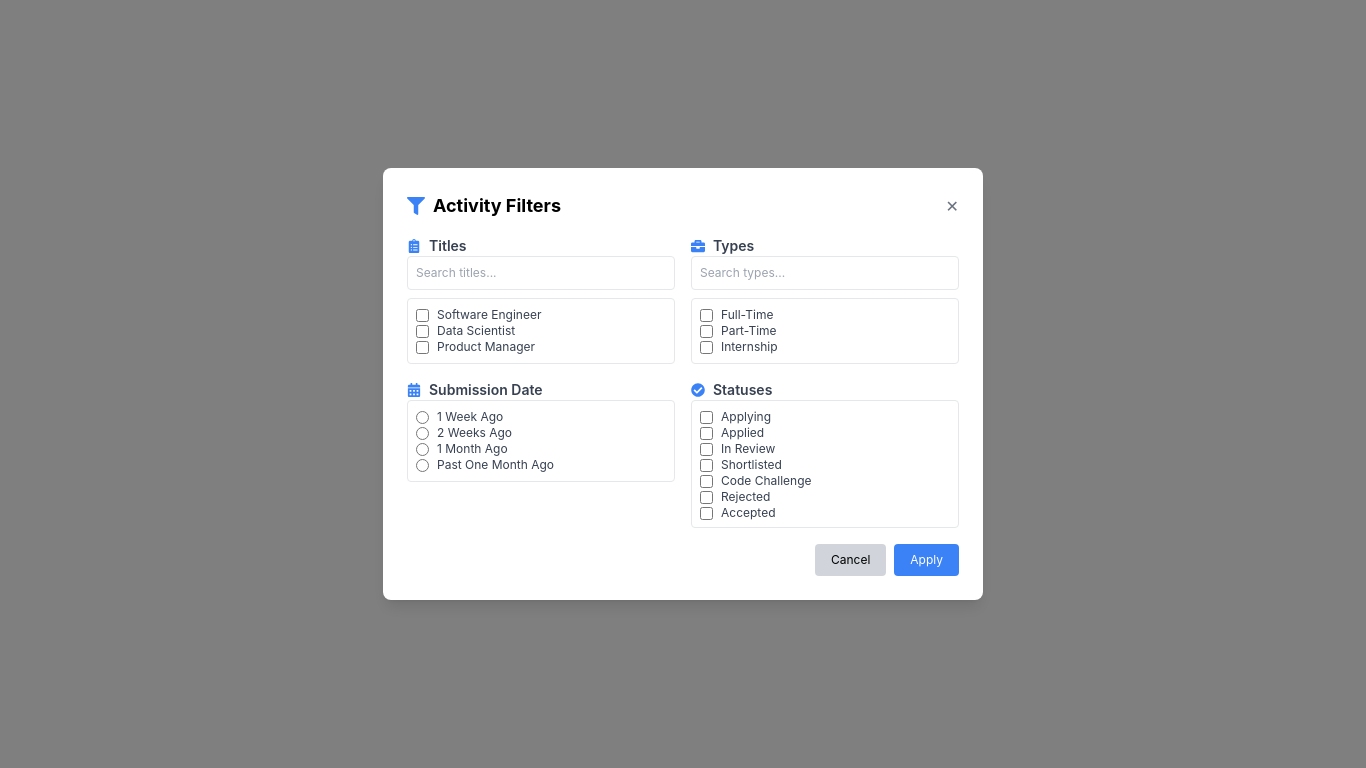
ActivityFilter Component › handles case-insensitive title search
This screenshot has width=1366, height=768.
Expected: the text "Software Engineer" is shown, [416,307,542,322]
Type "SOFTWARE" into the field with placeholder "Search titles..." at coordinates (541, 273), box [407,256,675,290]
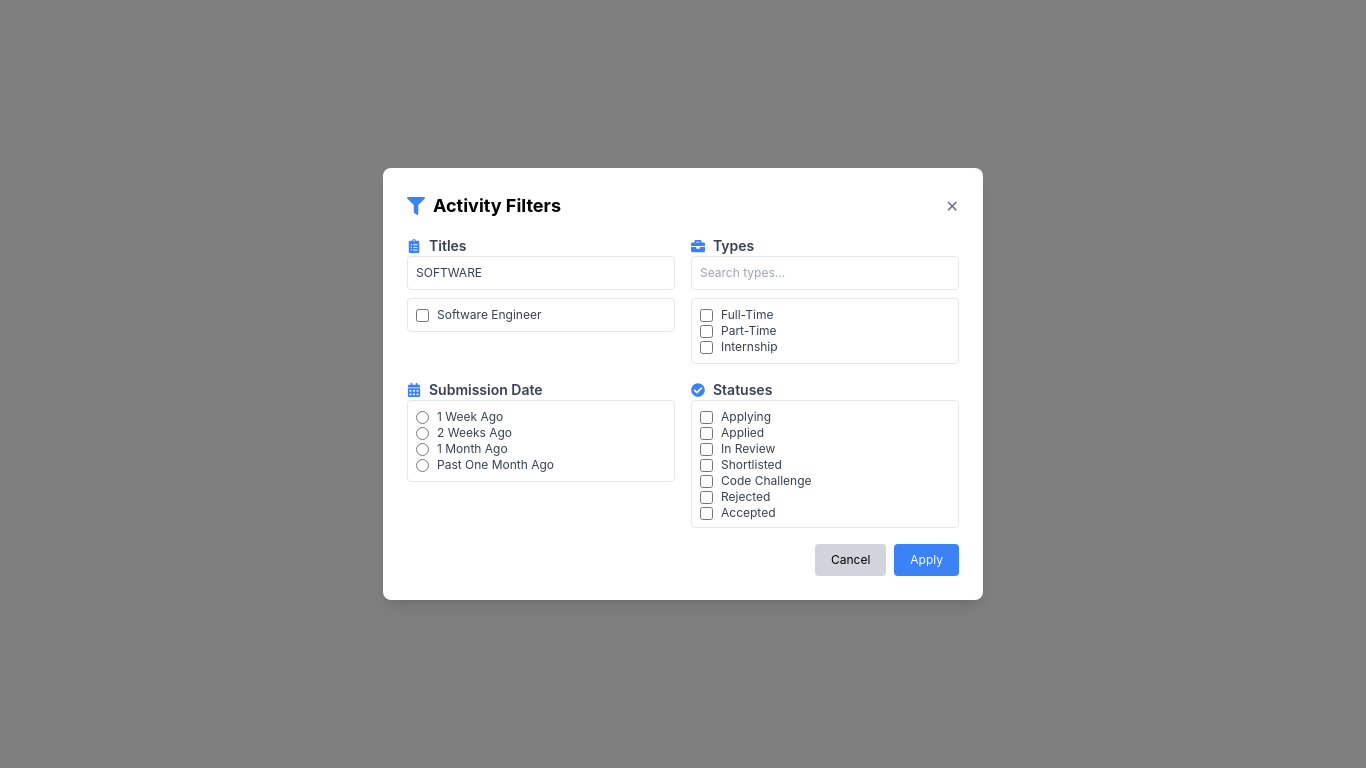
Expected: the text "Software Engineer" is shown, [416,307,542,322]
Expected: the text "Data Scientist" is gone
